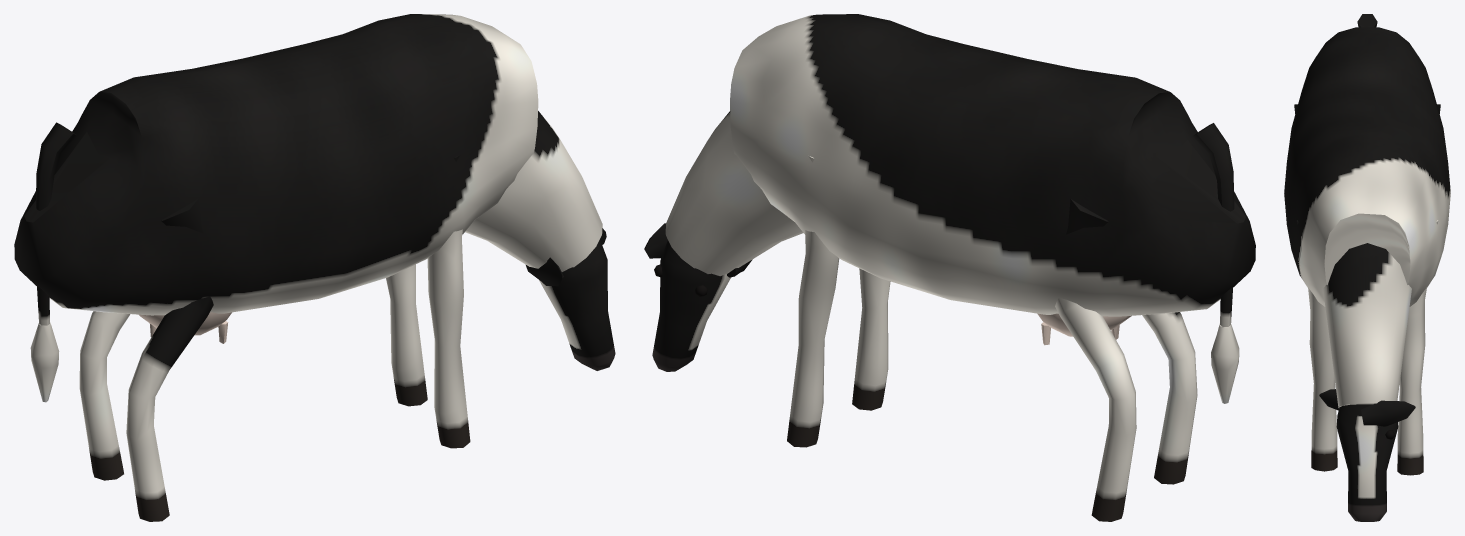
The model's file is tpl_life_herd_1970_cattle_holstein_graze.glb.
3 renders of one model, left to right at view 1: azimuth 30°, elevation 25°; view 2: azimuth 150°, elevation 25°; view 3: azimuth 270°, elevation 25°, orthographic. The views are drawn at different scales.
Parts seen in each view (by area): view 1: tpl_life_herd_1970_cattle_holstein_graze; view 2: tpl_life_herd_1970_cattle_holstein_graze; view 3: tpl_life_herd_1970_cattle_holstein_graze.
Boxes of the visible parts, x1,y1,x2,y2 form: tpl_life_herd_1970_cattle_holstein_graze: (14, 14, 615, 521); tpl_life_herd_1970_cattle_holstein_graze: (644, 14, 1255, 521); tpl_life_herd_1970_cattle_holstein_graze: (1284, 14, 1450, 521).
Bounding box in the file's own units: 2.13 × 1.41 × 0.6588.
2 materials, 1 textured.
